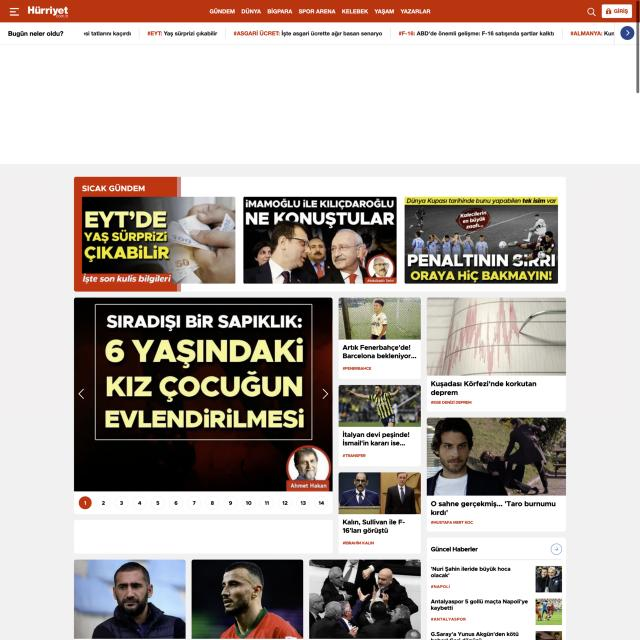logo: (25, 3, 72, 20)
navigation: (207, 6, 435, 18), (6, 5, 22, 18)
